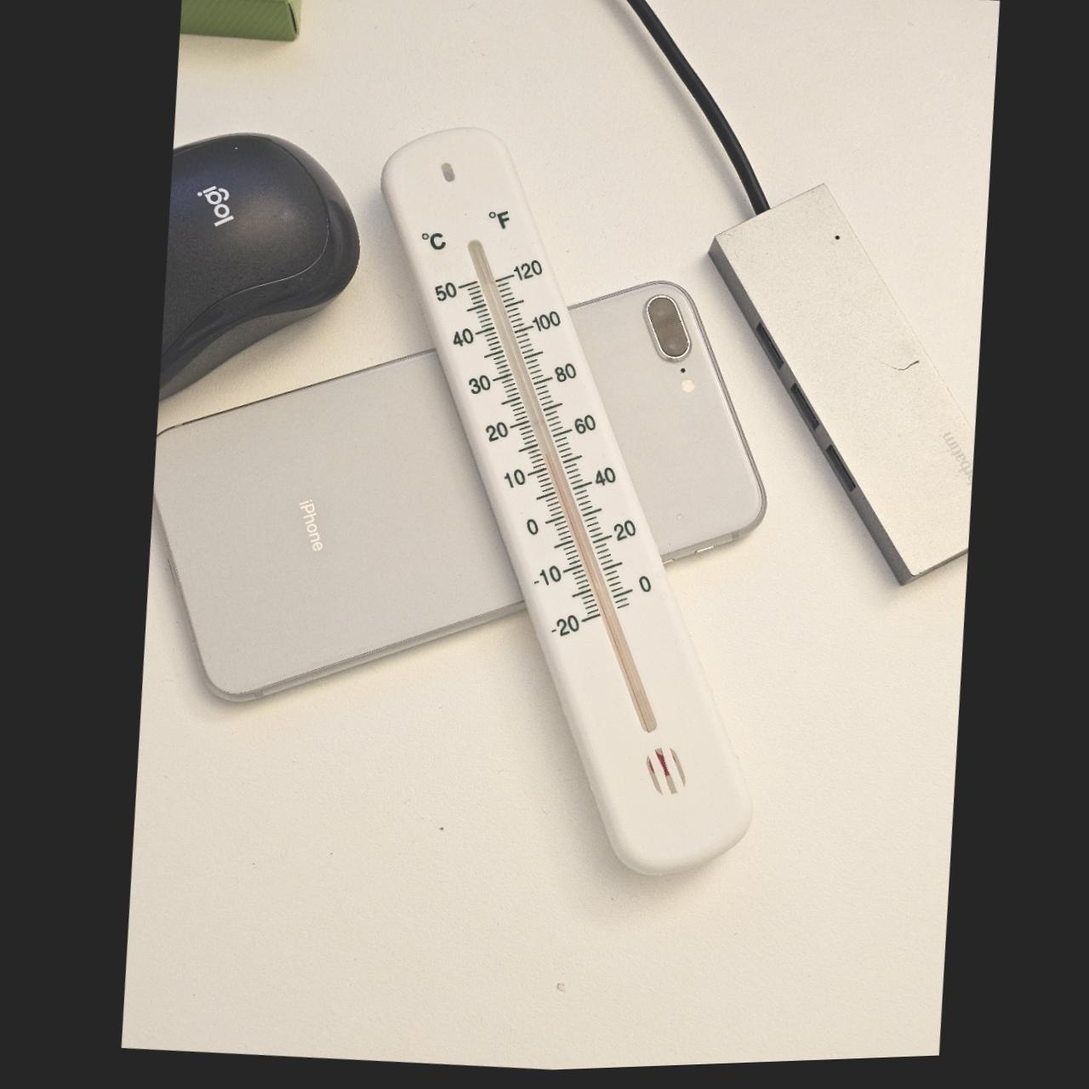thermometer: (306, 87, 834, 922)
